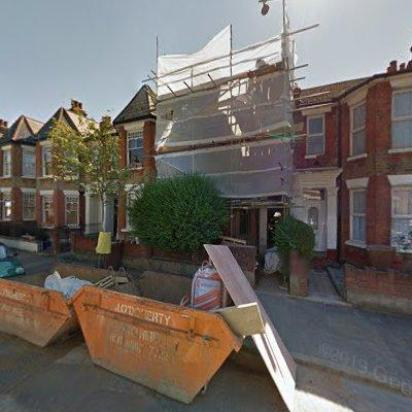stationary-car-onstreet: (0, 242, 28, 281)
x_other: (74, 251, 254, 407), (0, 261, 108, 349)
